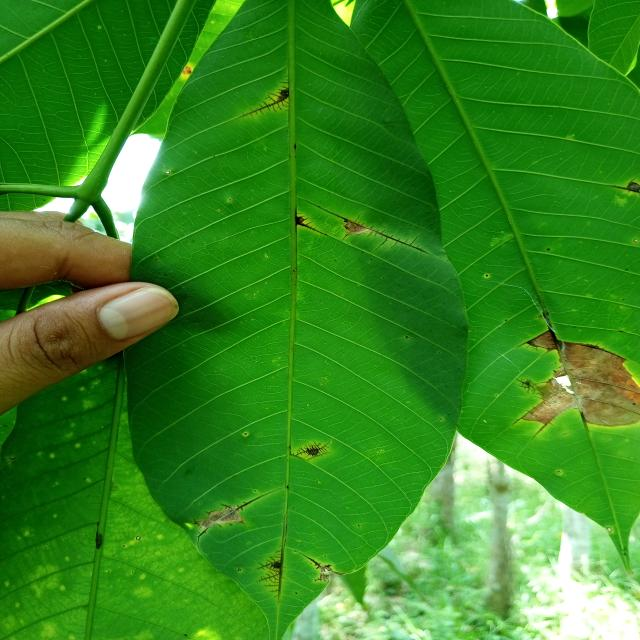Colletotrichum: (633, 239, 638, 243), (228, 199, 232, 202), (238, 568, 241, 571), (244, 433, 248, 435), (406, 336, 409, 338), (486, 274, 488, 277)
Corynespora: (191, 496, 261, 550), (240, 75, 290, 119), (256, 542, 284, 605), (368, 225, 427, 253), (294, 207, 326, 235), (289, 440, 331, 461), (578, 344, 627, 359), (518, 331, 549, 351), (608, 176, 640, 194), (516, 378, 544, 395), (512, 406, 535, 425), (235, 497, 259, 512), (193, 528, 209, 549), (548, 325, 560, 351), (302, 553, 321, 569), (532, 423, 548, 439), (341, 231, 351, 241), (220, 503, 232, 510), (314, 577, 327, 582), (192, 518, 200, 526), (205, 510, 212, 516), (324, 564, 332, 567)
Leaf-Blight: (521, 340, 640, 426), (198, 506, 242, 530), (346, 222, 371, 234)
